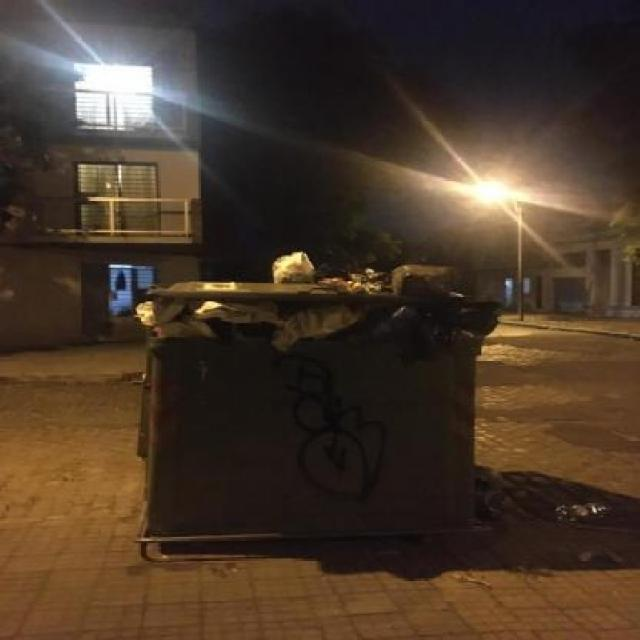garbage: (131, 251, 520, 356)
